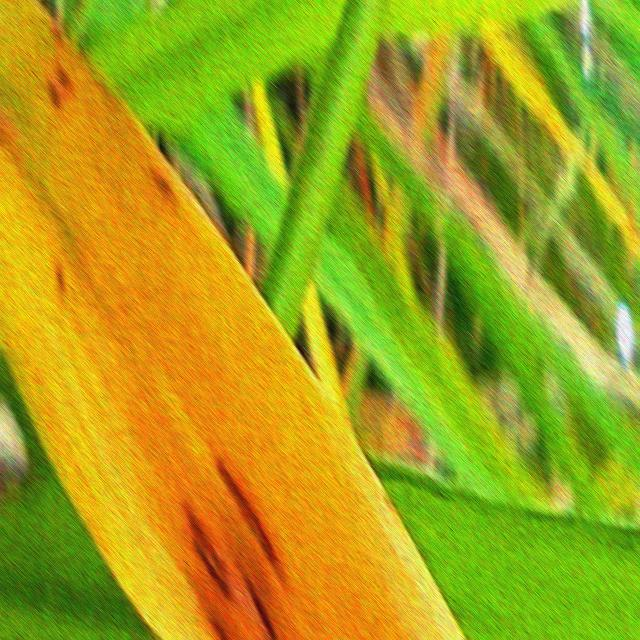NBS: (213, 451, 288, 594), (231, 552, 281, 640), (185, 506, 230, 596), (147, 161, 177, 207), (47, 76, 61, 112), (57, 63, 72, 91), (209, 618, 228, 640), (56, 260, 64, 296)
